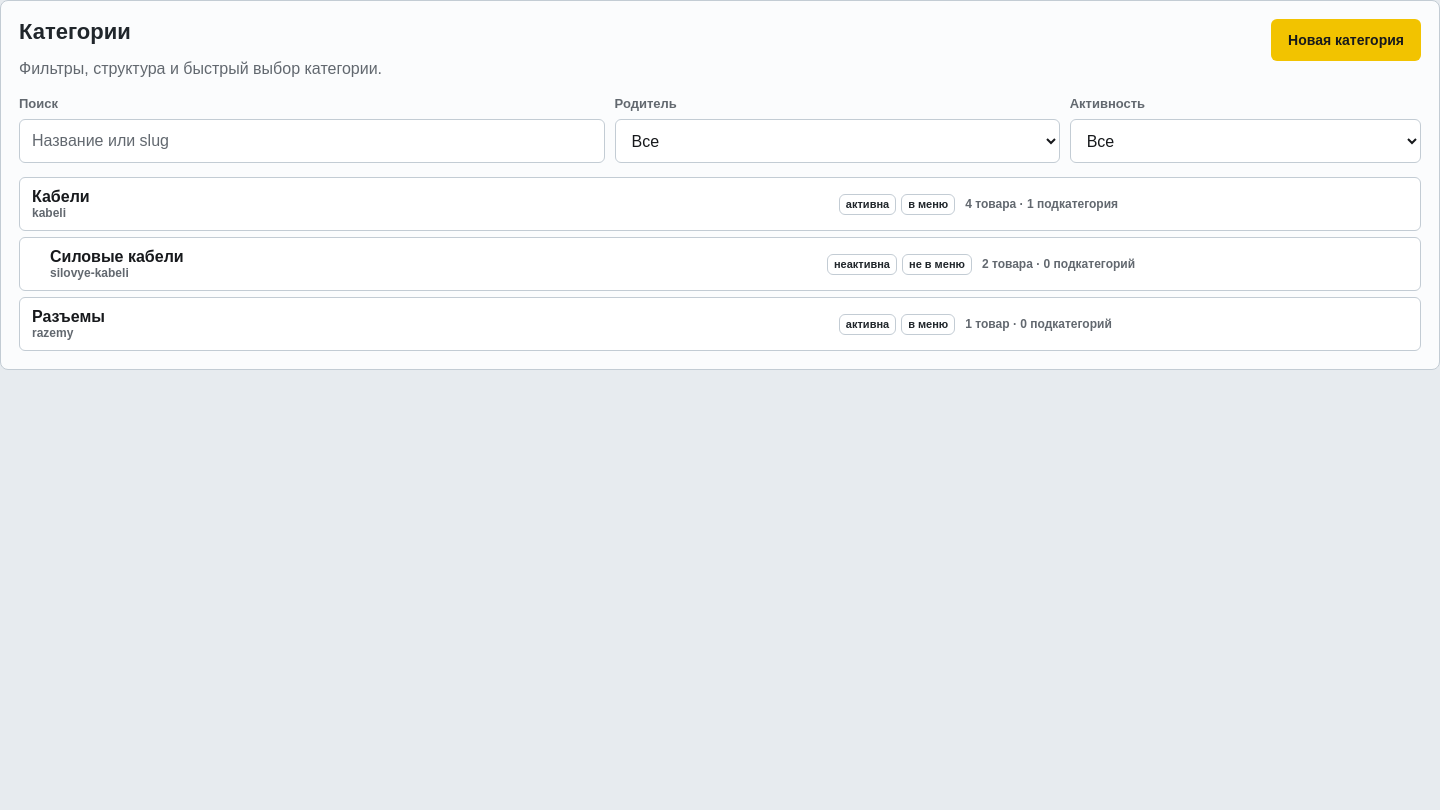
Test: AdminCategoryManager › selects a category from the tree and excludes self and descendants from parent picker
Click the list item "Кабели kabeli активна в меню 4 товара · 1 подкатегория". click: point(61, 197)
box: [19,177,1421,231]
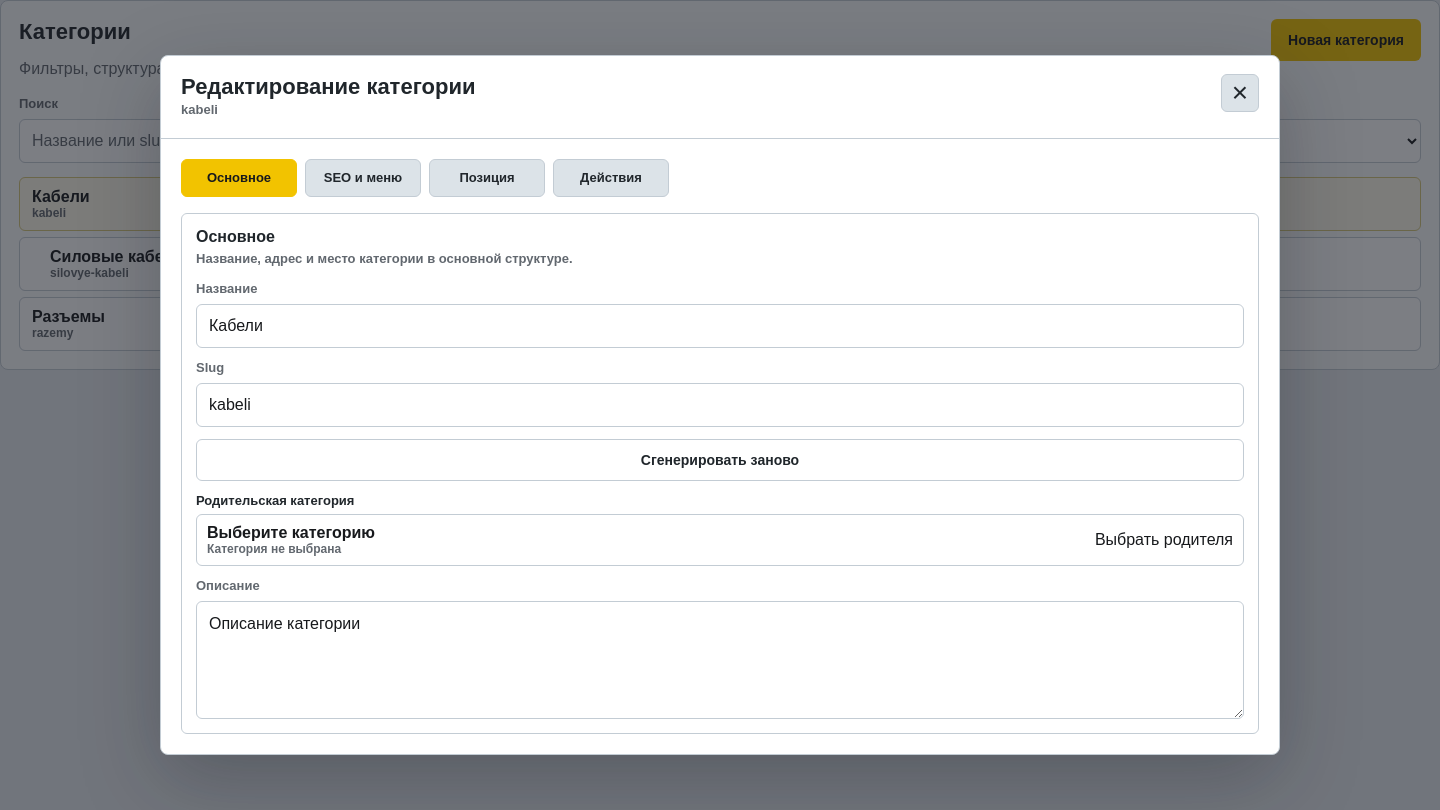
Now the field showing "Кабели" is shown, box [196,304,1244,348]
Click the button "Выбрать родителя". click: point(291, 532)
box: [196,514,1244,566]
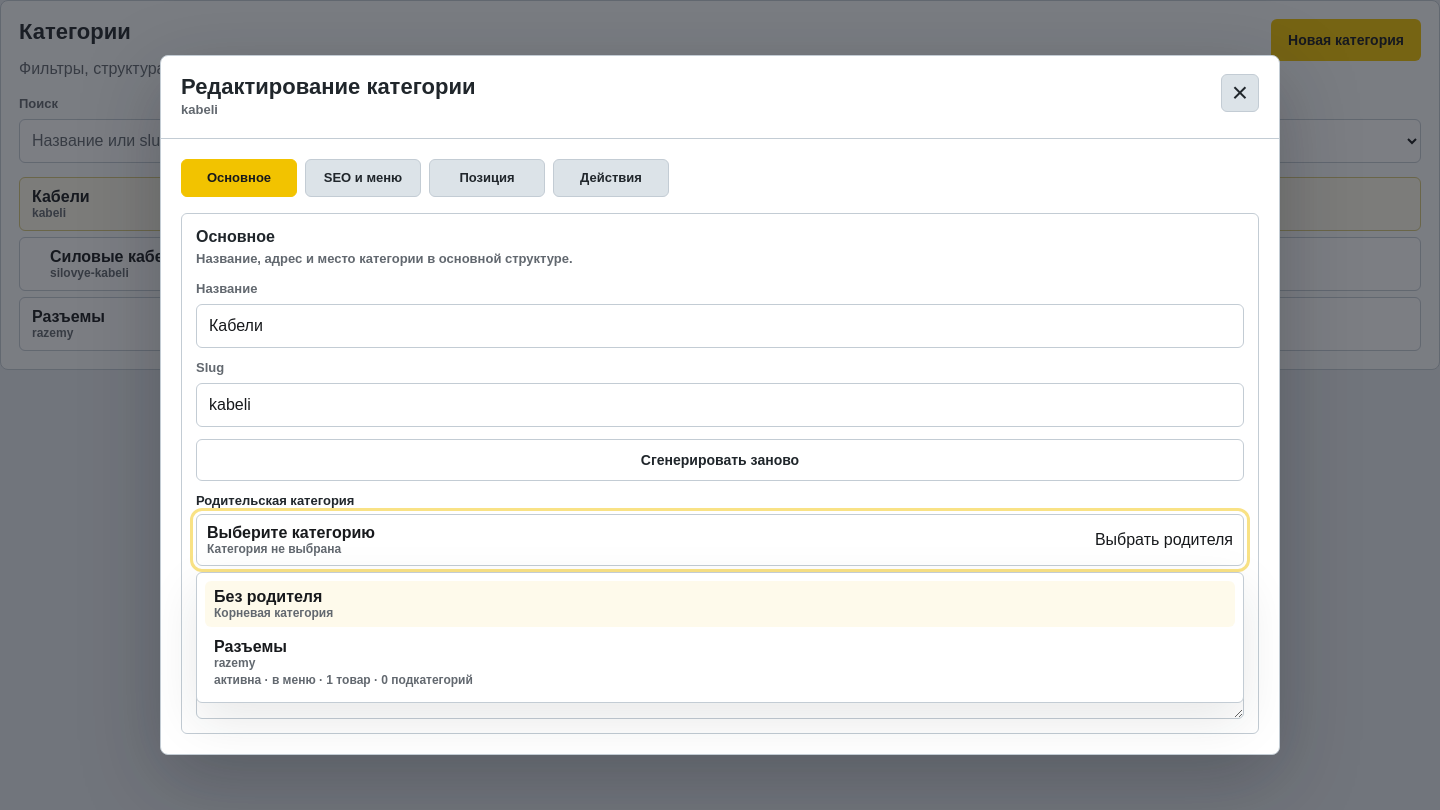
Now the option "Разъемы" is shown, box [205,630,1235,694]
